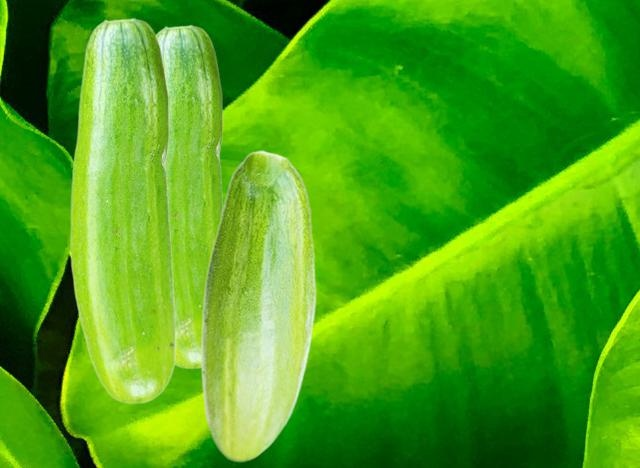cucumber: (70, 17, 175, 403), (200, 150, 315, 461), (156, 24, 223, 368)
